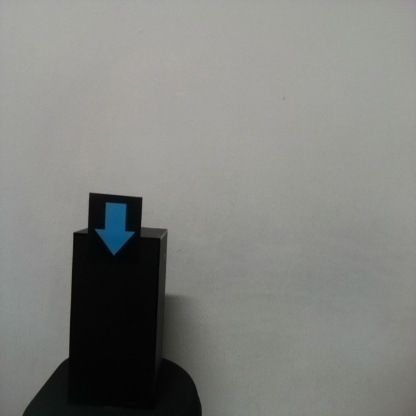id_2: (90, 194, 141, 273)
